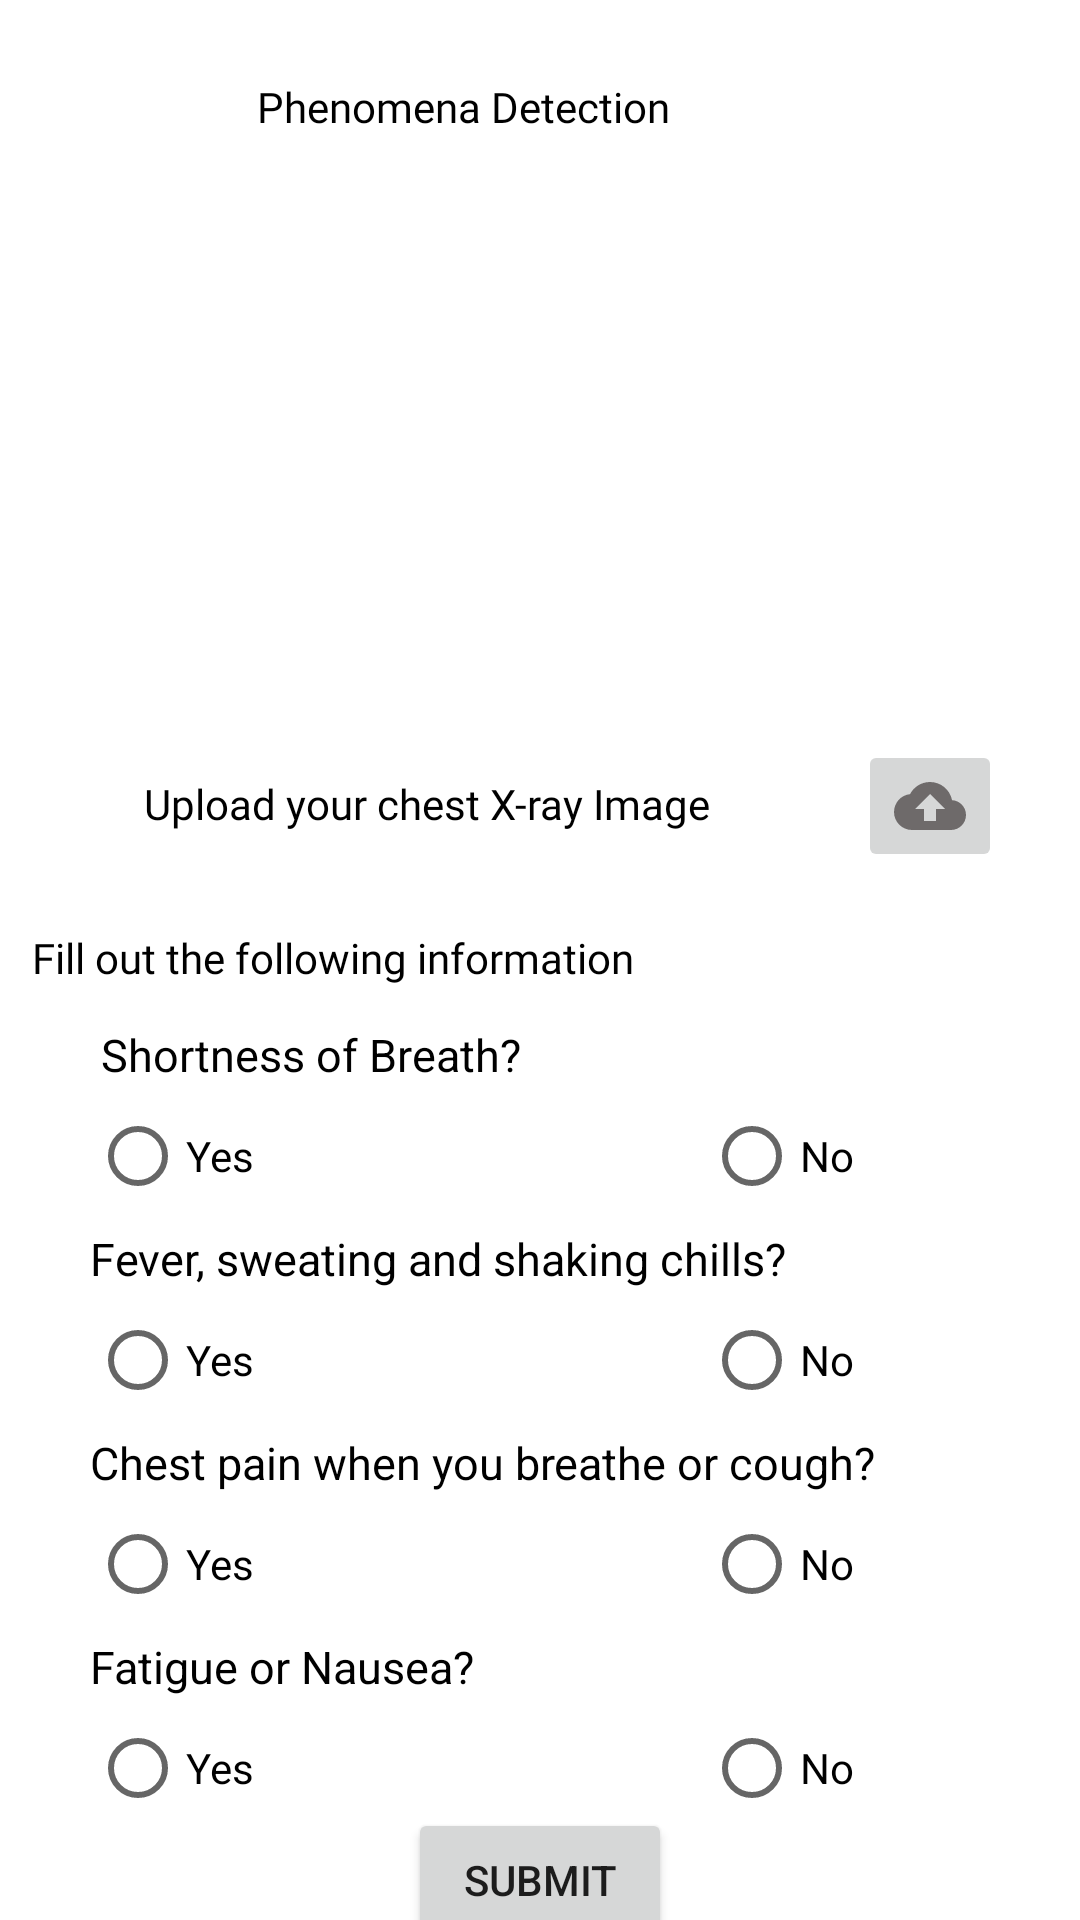

Icon click points for this 1080px×1920px phone screenshot, format (x,y):
cloud upload: (930,806)
